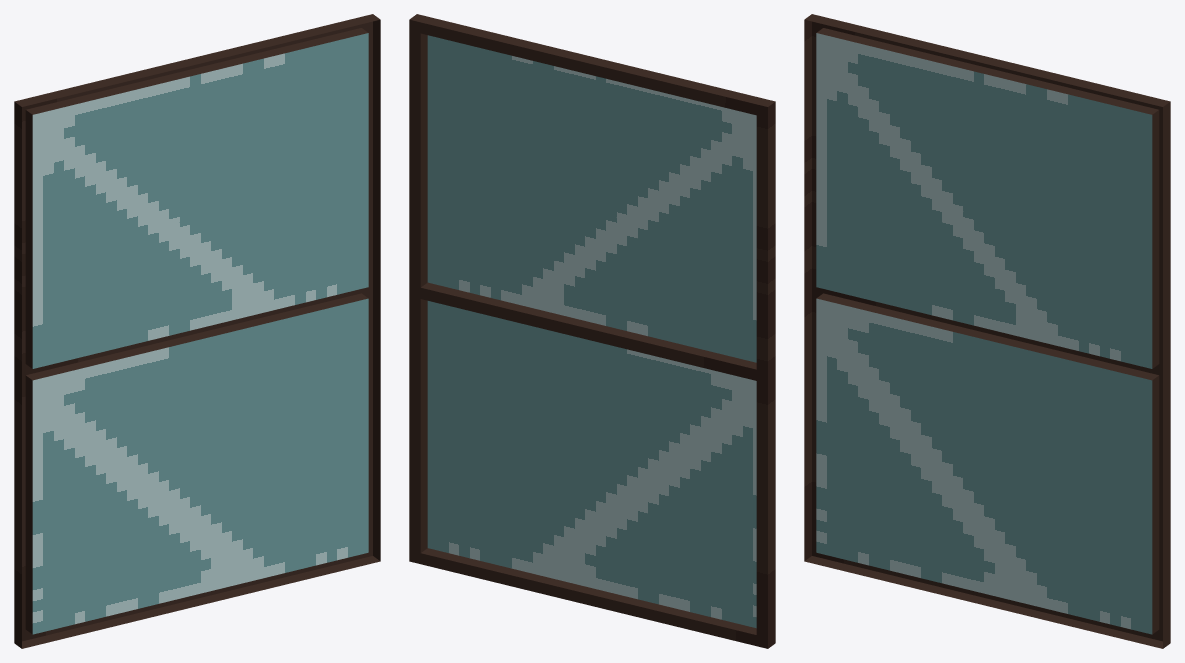
The model's file is Window.fbx.
3 renders of one model, left to right at view 1: azimuth 30°, elevation 25°; view 2: azimuth 150°, elevation 25°; view 3: azimuth 330°, elevation 25°, orthographic.
Parts seen in each view (by area): view 1: Cube; view 2: Cube; view 3: Cube.
Part boxes in pixels (x1=…): Cube: x1=14, y1=14, x2=380, y2=648; Cube: x1=409, y1=14, x2=775, y2=648; Cube: x1=804, y1=14, x2=1170, y2=648.
Bounding box in the file's own units: 200 × 289 × 7.43.
